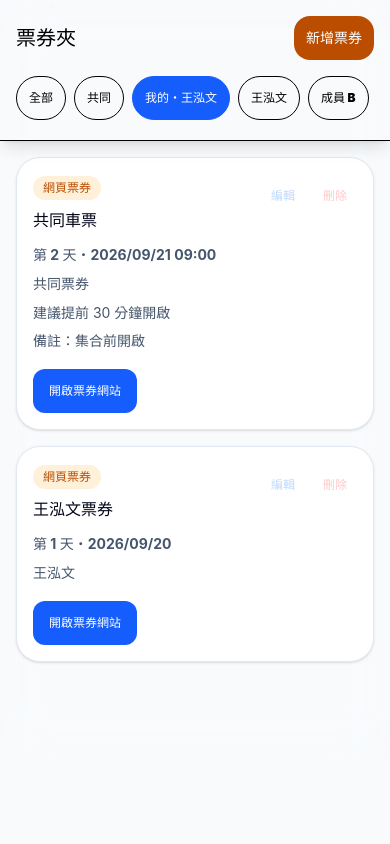
TicketWalletSection › viewing another member does not change device identity
The width and height of the screenshot is (390, 844).
Click the button with test id "ticket-filter-member".
click(338, 98)  # box [308,76,368,120]
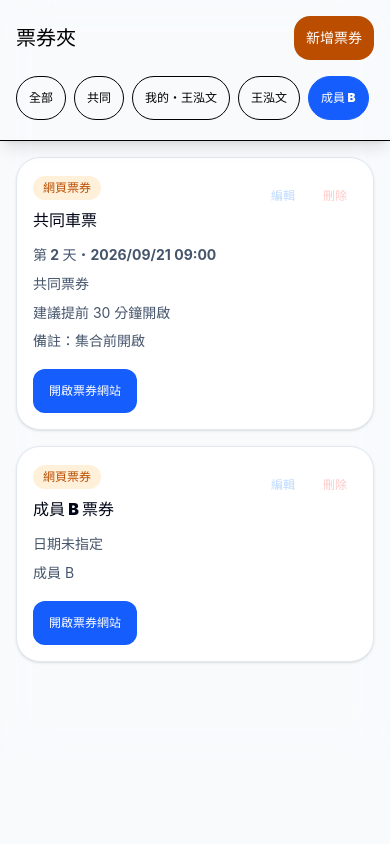
Check: the button with test id "ticket-filter-mine" reads "我的・王泓文", box [132,76,230,120]
Check: the heading "成員 B 票券" is shown, box [33,497,114,521]
